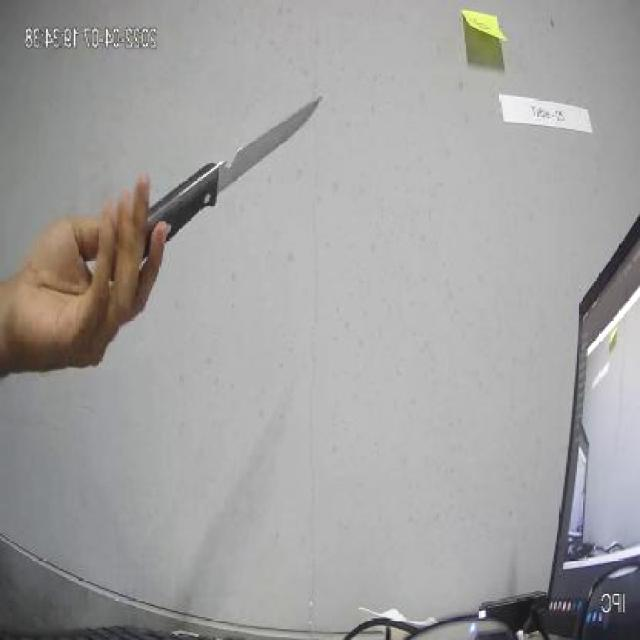knife: (92, 66, 325, 283)
